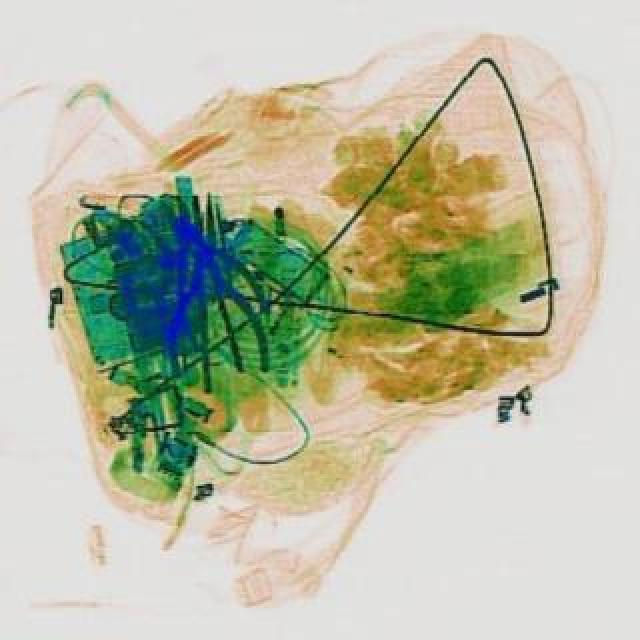wrench: (126, 182, 278, 354), (150, 188, 270, 380)
